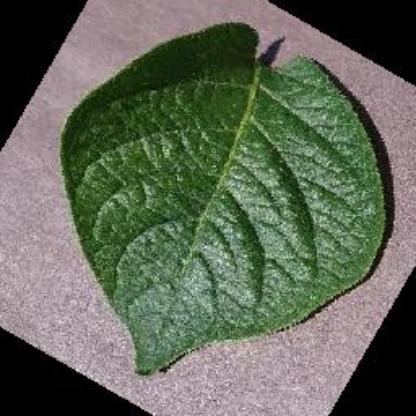Healthy-plant: (60, 22, 400, 376)
